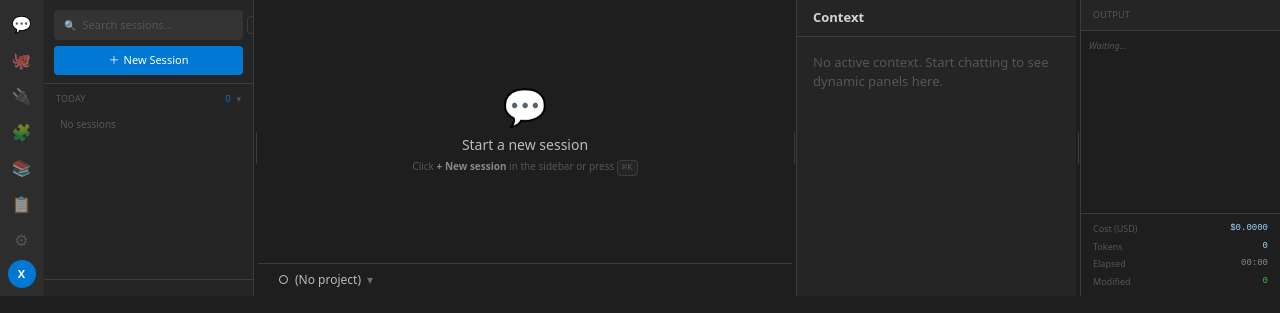
Test case: ChatLayout decisions 탭 › ActivityBar에 decisions 내비가 있고 클릭 시 DecisionsPanel 렌더
Click the button with test id "nav-decisions": (22, 204) [6,188,38,220]
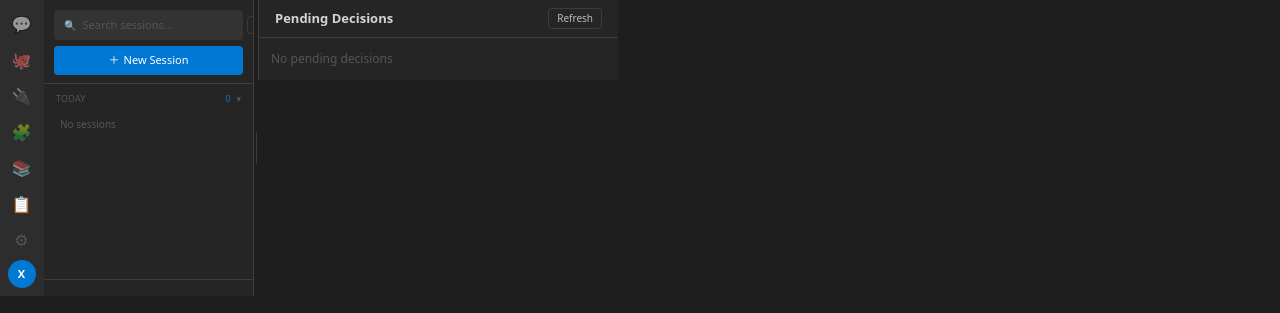
Check: the element with test id "decisions-panel" is shown, box [258,0,618,80]
